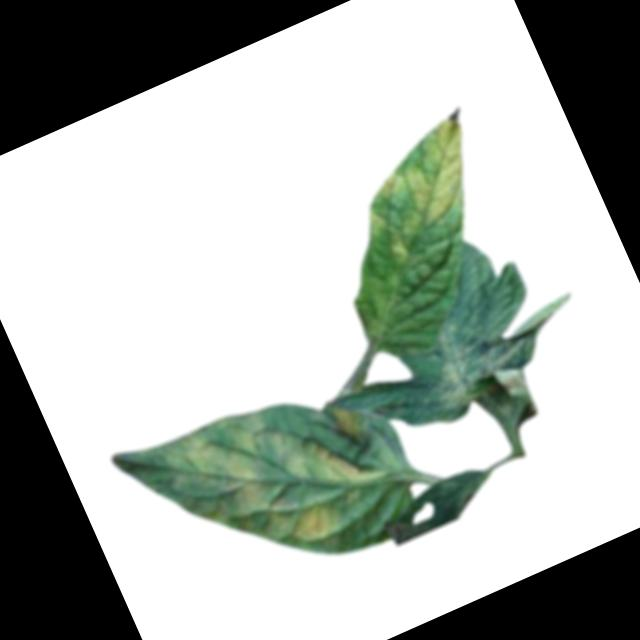Leaf_Mold: (151, 367, 405, 605), (341, 113, 502, 269), (413, 296, 543, 417)
